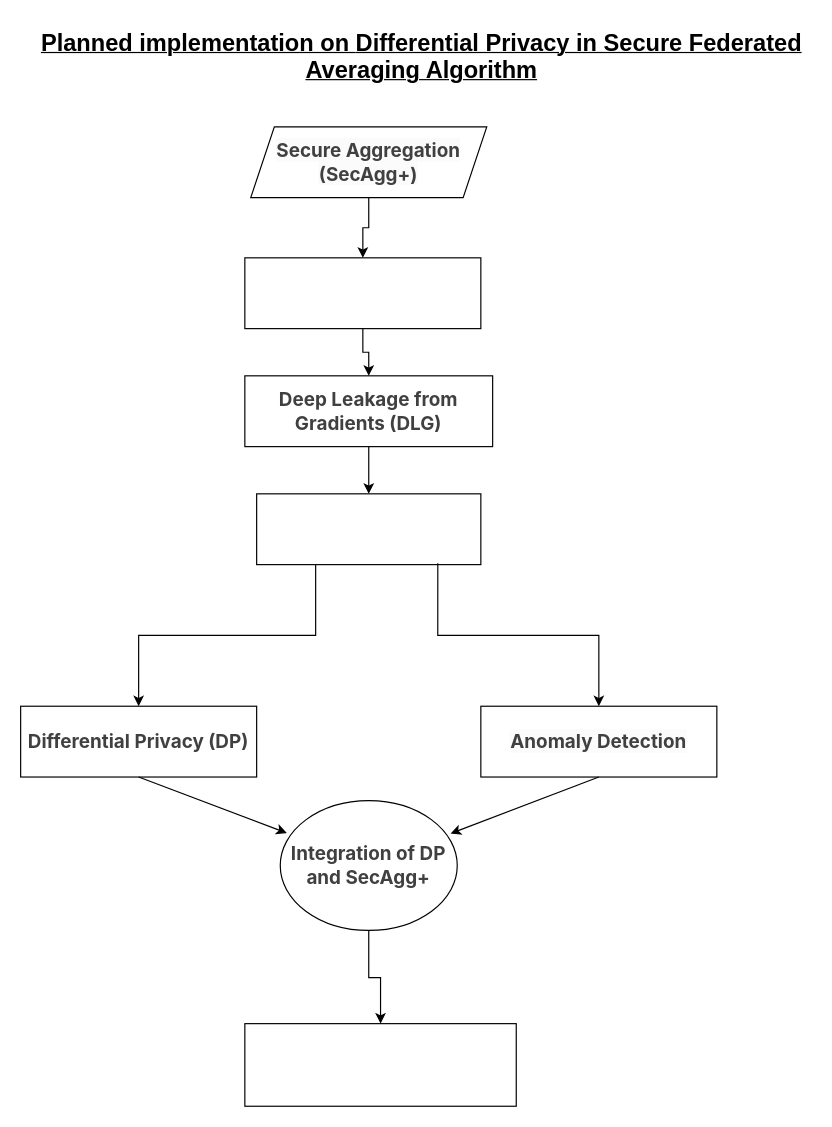
Image size: 832x1127. Some labels were removed from this diagram. The centre of each missing label's shape, as x and y in pixels:
Client Updates (Gradients): (x=362, y=293)
Privacy Leakage (Reconstructed Data): (x=368, y=529)
Secure Federated Averaging Algorithm: (x=380, y=1064)
